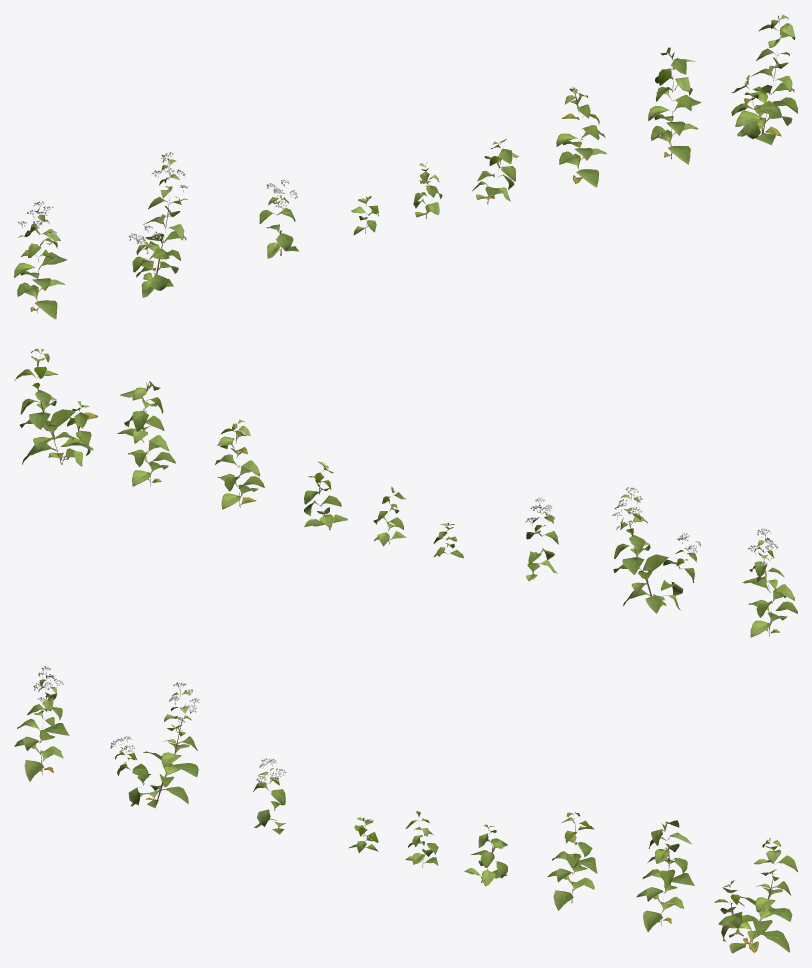
The model's file is m_shrub_01.318b139ac3.glb.
3 views of the same model, one above another, from view 1: azimuth 30°, elevation 25°; view 2: azimuth 150°, elevation 25°; view 3: azimuth 330°, elevation 25° (orthographic). The views are drawn at different scales.
Parts seen in each view (by area): view 1: shrub_01_a; view 2: shrub_01_a; view 3: shrub_01_a.
Part boxes in pixels (x1,y1,x2,y2): shrub_01_a: (14,14,797,319); shrub_01_a: (14,348,797,637); shrub_01_a: (14,666,797,953).
Size of the model in its own units: 2.59 by 0.3954 by 0.2174.
Materials: 1 (1 with a texture image).
